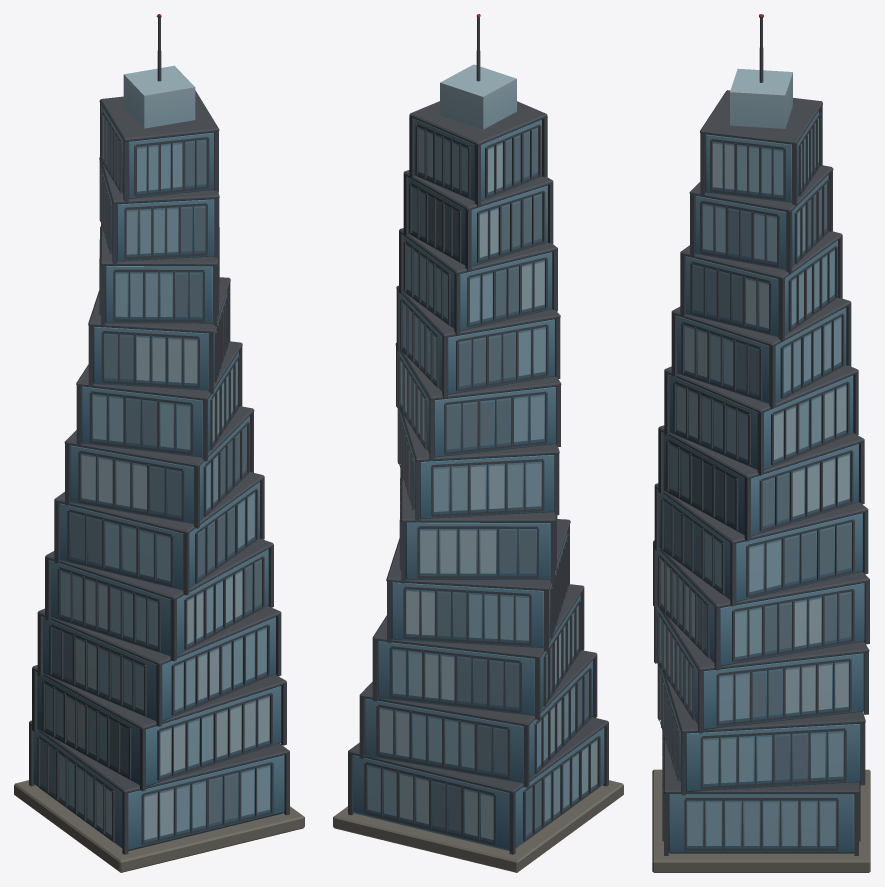
File: twisting_supertall_01.glb
The picture shows the model from 3 angles, left to right: view 1: azimuth 30°, elevation 25°; view 2: azimuth 150°, elevation 25°; view 3: azimuth 270°, elevation 25°; orthographic projection.
Visible parts, largest first — view 1: twisting_supertall_01; view 2: twisting_supertall_01; view 3: twisting_supertall_01.
Boxes of the visible parts, bbox=[...] form: twisting_supertall_01: bbox=[14, 14, 304, 872]; twisting_supertall_01: bbox=[333, 14, 623, 872]; twisting_supertall_01: bbox=[652, 14, 870, 872].
Size of the model in its own units: 7.8 by 32.07 by 7.8.
